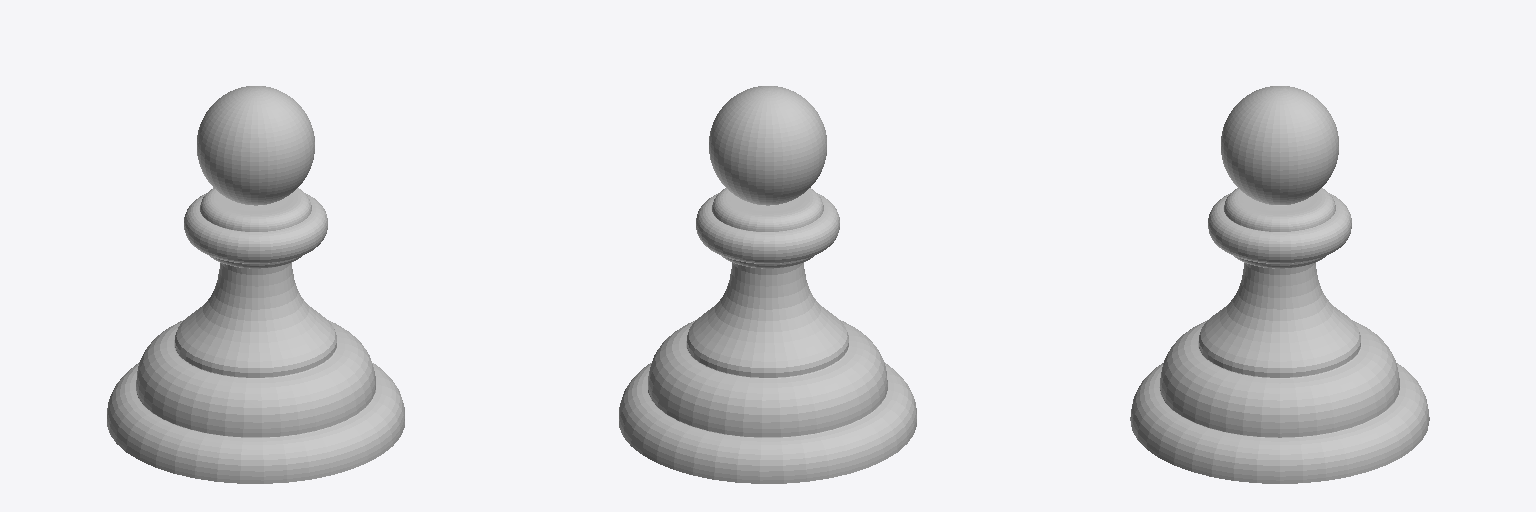
File: finalsoliiderleft5.obj
3 renders of one model, left to right at view 1: azimuth 30°, elevation 25°; view 2: azimuth 150°, elevation 25°; view 3: azimuth 270°, elevation 25°, orthographic.
Parts seen in each view (by area): view 1: white_pawn1_Mesh.003; view 2: white_pawn1_Mesh.003; view 3: white_pawn1_Mesh.003.
Boxes of the visible parts, x1,y1,x2,y2 form: white_pawn1_Mesh.003: [107, 86, 404, 483]; white_pawn1_Mesh.003: [619, 86, 916, 483]; white_pawn1_Mesh.003: [1130, 86, 1429, 483].
Bounding box in the file's own units: 0.489 × 0.5954 × 0.489.